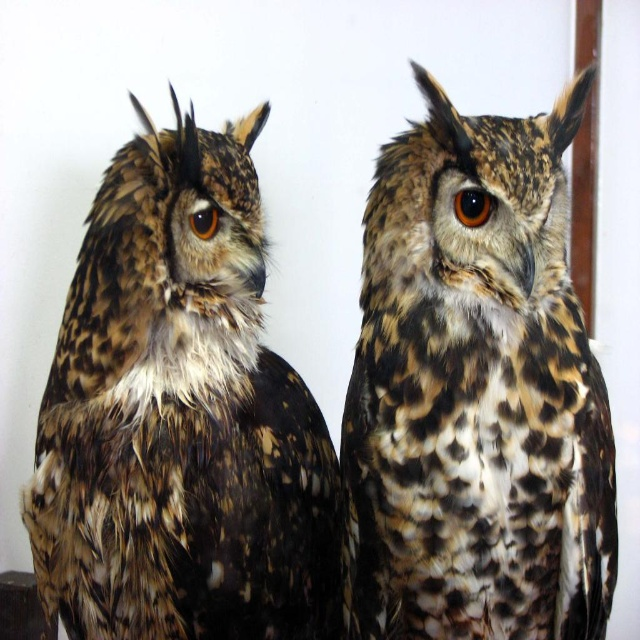Owl: (17, 76, 341, 639), (342, 54, 618, 639)
